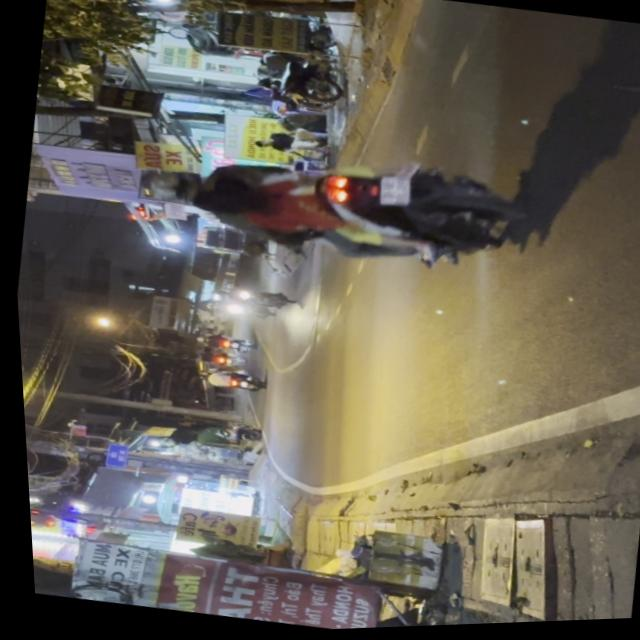helmet: (143, 165, 201, 205)
licenseplate: (136, 121, 548, 296)
motorcyclist: (185, 169, 266, 225)
nohelmet: (375, 175, 410, 210)
